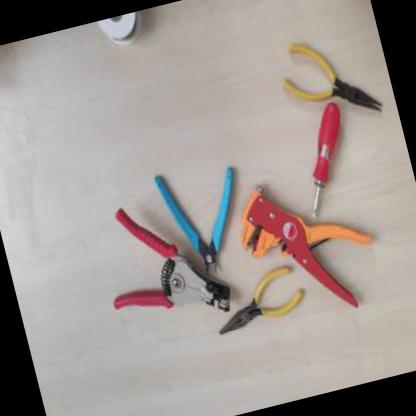Screwdriver: (282, 92, 368, 224)
